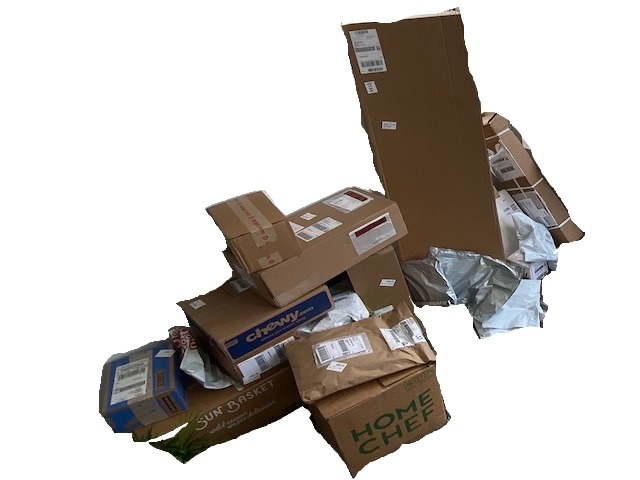cardboard: (339, 6, 503, 259), (320, 379, 458, 463), (295, 313, 438, 388), (174, 292, 320, 359), (203, 191, 300, 271), (288, 202, 400, 269), (98, 343, 186, 424)
